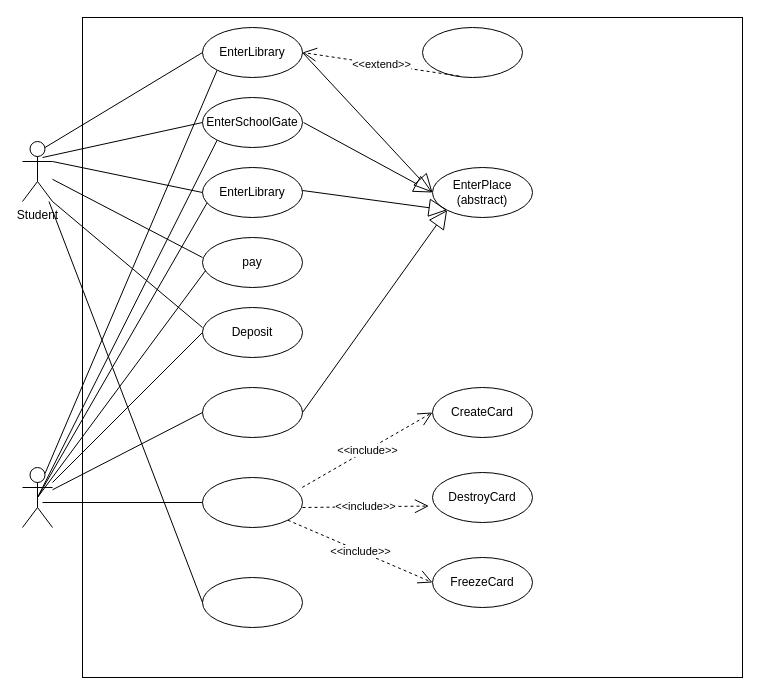
Some shapes in this 760 by 695 pixel diagram are drawn without their labels. Here are the shapes that lost their labels. From the top down, the centre of each, then its label:
the point at 472,52: Borrow book
the point at 252,412: EnterOffice
the point at 37,497: Public service staff
the point at 252,502: ManageCards
the point at 252,602: ExamCertificate
